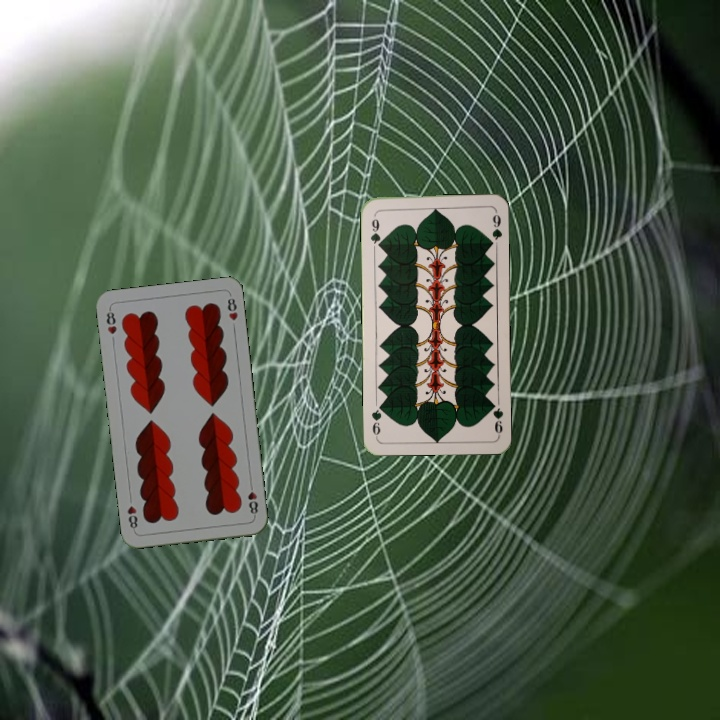G9: (487, 397, 506, 438), (366, 210, 383, 251)
H8: (244, 479, 261, 519), (102, 305, 119, 337)
